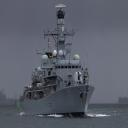Fragata: (20, 5, 97, 118)
